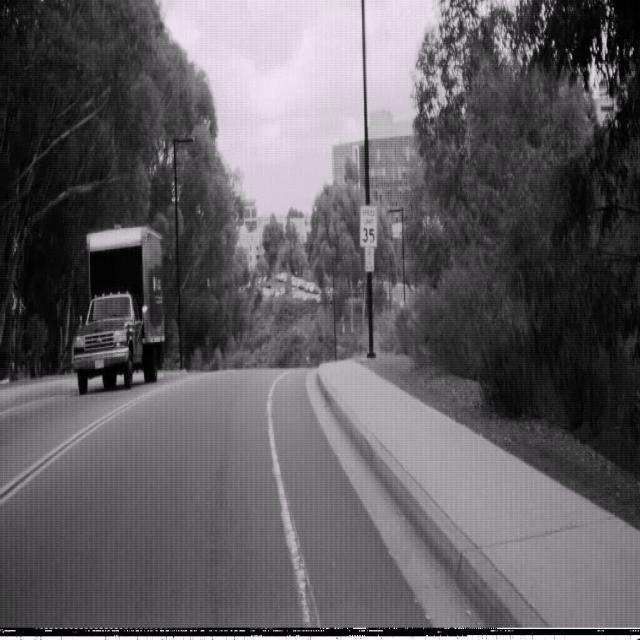speedLimit35: (359, 204, 378, 248)
